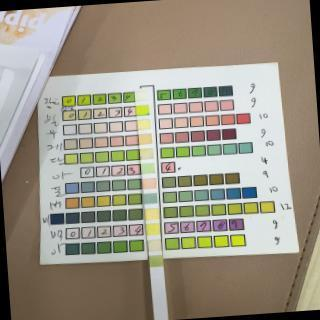mark: (146, 223, 160, 236), (148, 240, 162, 252), (144, 209, 160, 219), (140, 149, 154, 160), (140, 133, 152, 145), (142, 163, 156, 173), (150, 256, 163, 266), (138, 120, 150, 130), (144, 194, 156, 204), (136, 105, 148, 114), (144, 179, 156, 188), (136, 91, 146, 101)
